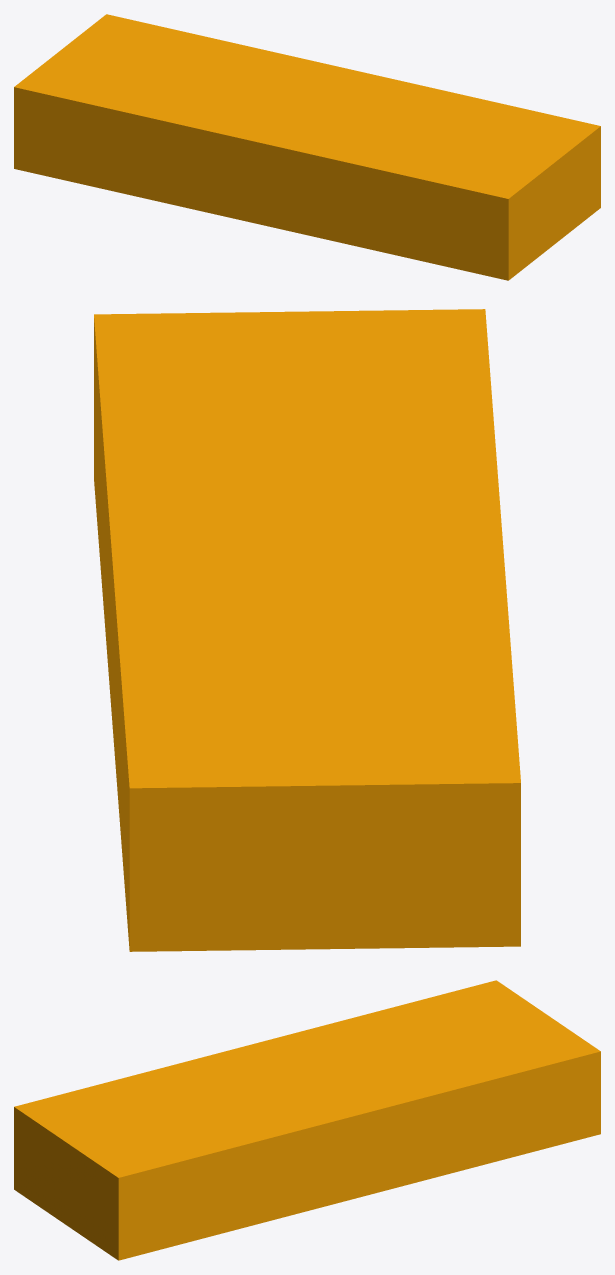
The model's file is FallingPlatform.fbx.
3 renders of one model, top to bottom at view 1: azimuth 30°, elevation 25°; view 2: azimuth 150°, elevation 25°; view 3: azimuth 270°, elevation 25°, orthographic. The views are drawn at different scales.
Parts seen in each view (by area): view 1: Cube; view 2: Cube; view 3: Cube.
Boxes of the visible parts, bbox=[...] form: Cube: bbox=[14, 14, 600, 280]; Cube: bbox=[94, 309, 520, 951]; Cube: bbox=[14, 980, 600, 1260].
Bounding box in the file's own units: 713 × 139 × 895.
